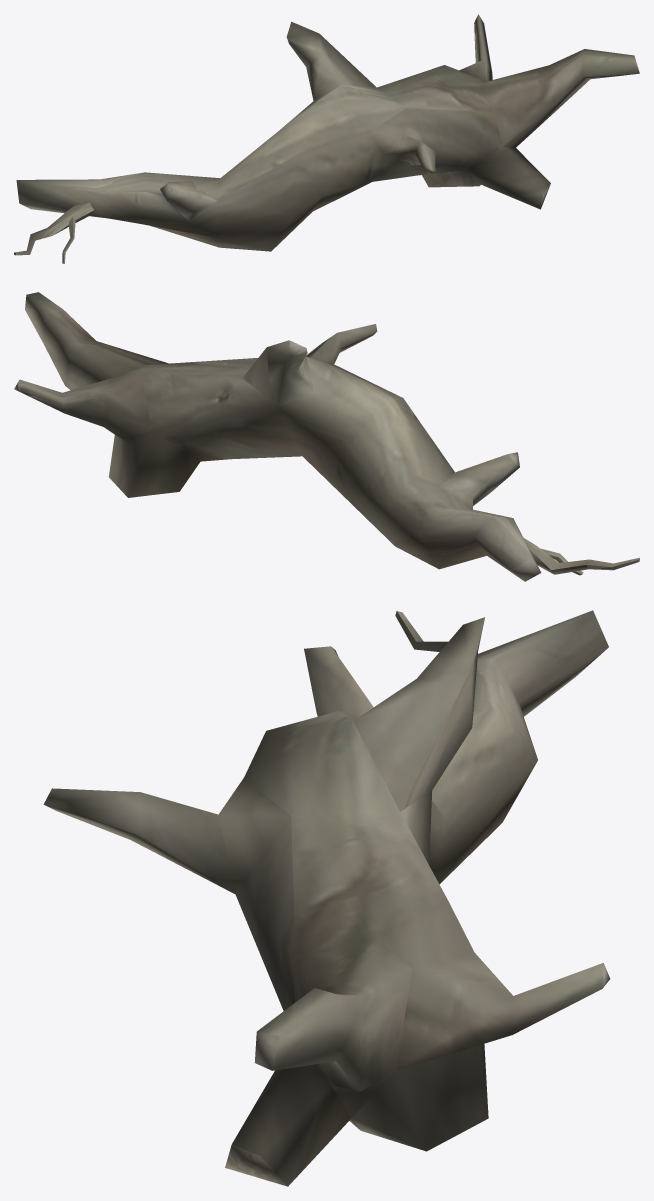
File: DN_lv2_kushu07_hero.FBX
3 views of the same model, one above another, from view 1: azimuth 30°, elevation 25°; view 2: azimuth 150°, elevation 25°; view 3: azimuth 270°, elevation 25° (orthographic). The views are drawn at different scales.
Visible parts, largest first — view 1: DN_lv2_kushu07_hero; view 2: DN_lv2_kushu07_hero; view 3: DN_lv2_kushu07_hero.
Boxes of the visible parts, bbox=[...] form: DN_lv2_kushu07_hero: bbox=[14, 14, 639, 263]; DN_lv2_kushu07_hero: bbox=[14, 292, 639, 581]; DN_lv2_kushu07_hero: bbox=[43, 610, 610, 1186].
Size of the model in its own units: 295 by 89.55 by 122.
